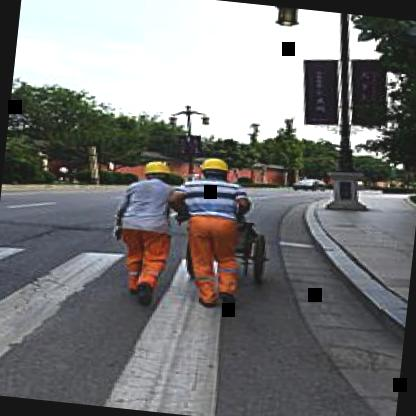helmet: (195, 154, 232, 182), (141, 156, 174, 186)
